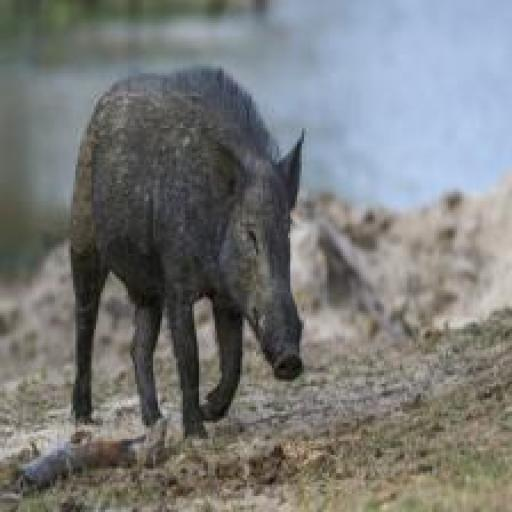Pig: (62, 60, 328, 428)
